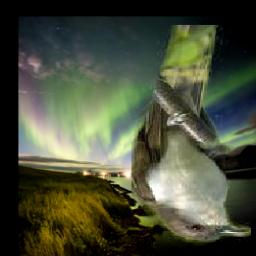Cuckoo: (133, 26, 252, 249)
